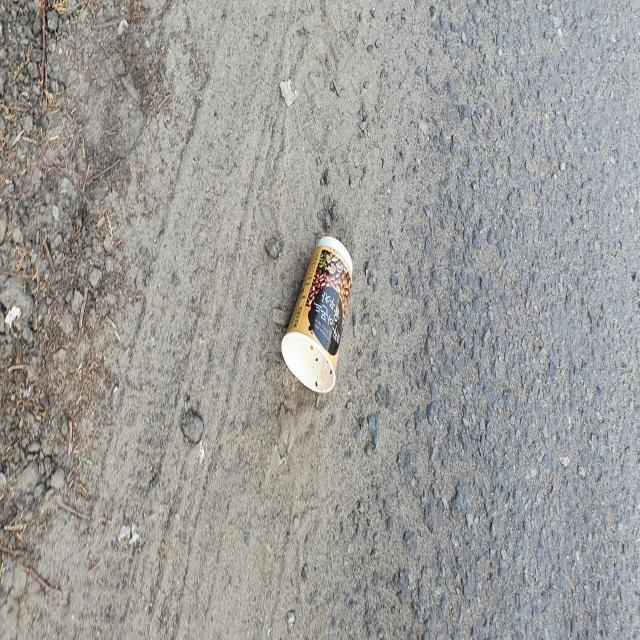paperpack: (282, 235, 353, 392)
